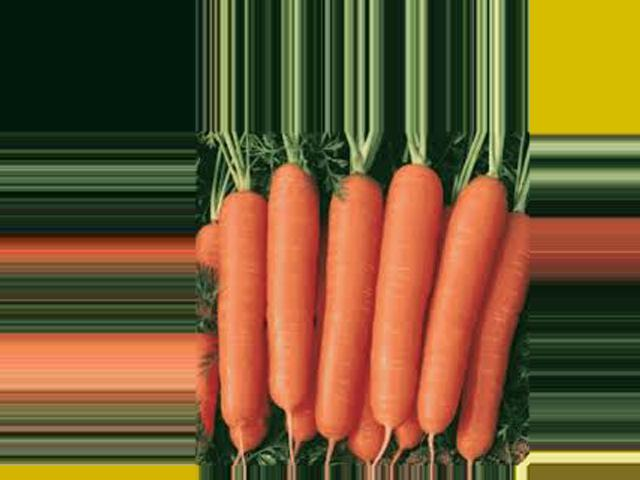carrot: (450, 202, 531, 452)
